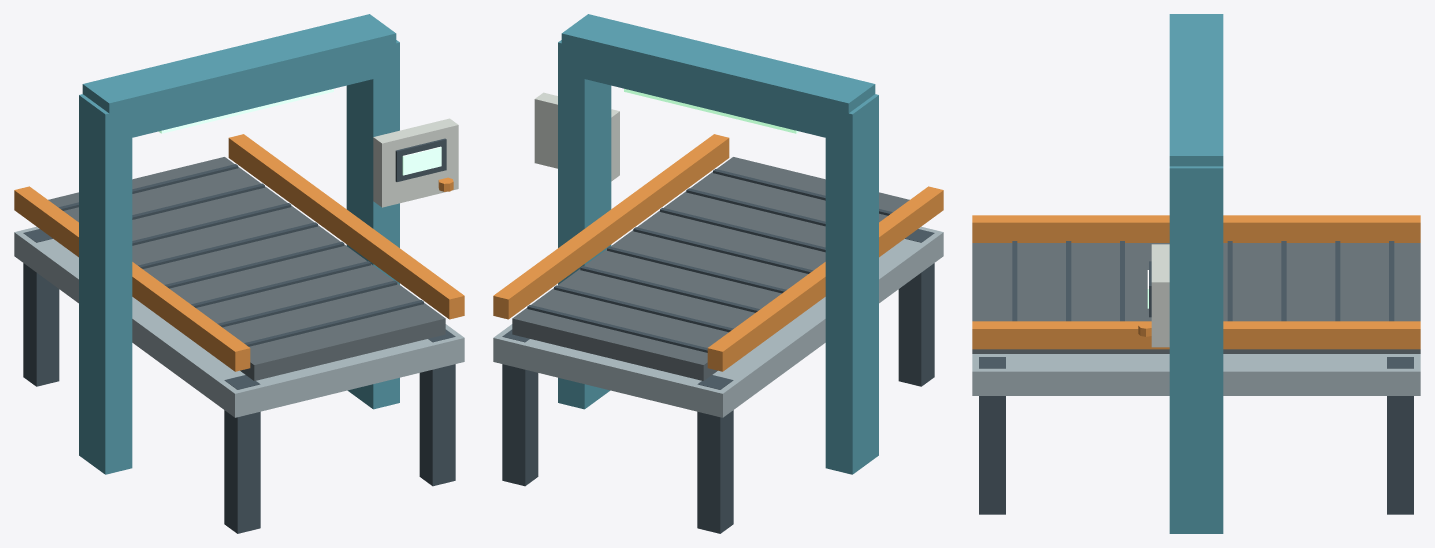
The model's file is barcode-scanning-arch.glb.
3 renders of one model, left to right at view 1: azimuth 30°, elevation 25°; view 2: azimuth 150°, elevation 25°; view 3: azimuth 270°, elevation 25°, orthographic.
Visible parts, largest first — view 1: blue, rubber, dark, orange, steel, cream, light; view 2: blue, rubber, dark, steel, orange, cream, light; view 3: rubber, blue, orange, steel, dark, cream.
Boxes of the visible parts, x1,y1,x2,y2 form: blue: [79, 14, 399, 474]; rubber: [48, 157, 445, 380]; dark: [23, 138, 455, 533]; orange: [14, 134, 464, 371]; steel: [14, 226, 464, 417]; cream: [373, 118, 458, 207]; light: [158, 88, 441, 175]; blue: [558, 14, 878, 474]; rubber: [512, 157, 909, 380]; dark: [502, 169, 934, 533]; steel: [493, 226, 943, 417]; orange: [493, 134, 943, 371]; cream: [534, 92, 619, 181]; light: [624, 88, 799, 133]; rubber: [972, 243, 1420, 353]; blue: [1169, 14, 1223, 533]; orange: [972, 215, 1420, 349]; steel: [972, 354, 1420, 395]; dark: [979, 241, 1413, 514]; cream: [1151, 244, 1169, 347].
Bounding box in the file's own units: 1.8 × 1.85 × 2.
